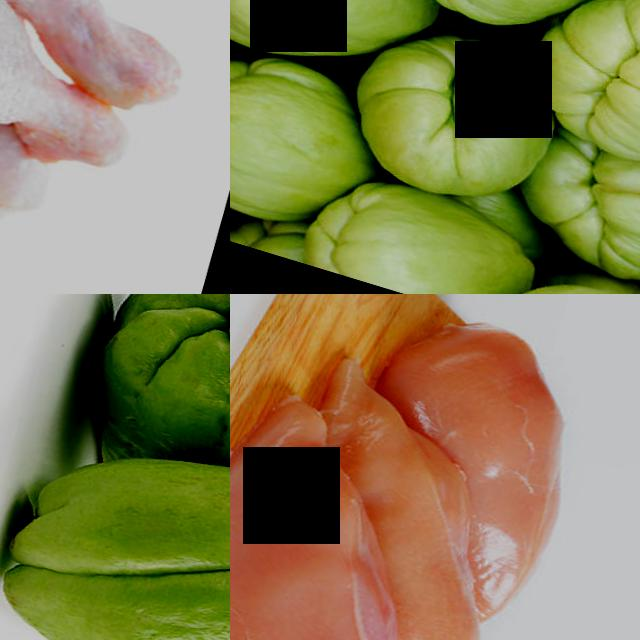chayote: (0, 434, 230, 640), (36, 294, 230, 499), (230, 33, 378, 226), (376, 31, 544, 200), (523, 0, 640, 185), (230, 0, 443, 83)
chicken breast: (455, 342, 634, 610), (230, 413, 419, 640), (362, 484, 511, 640)
chicken thigh: (0, 0, 152, 175), (0, 0, 230, 85)
